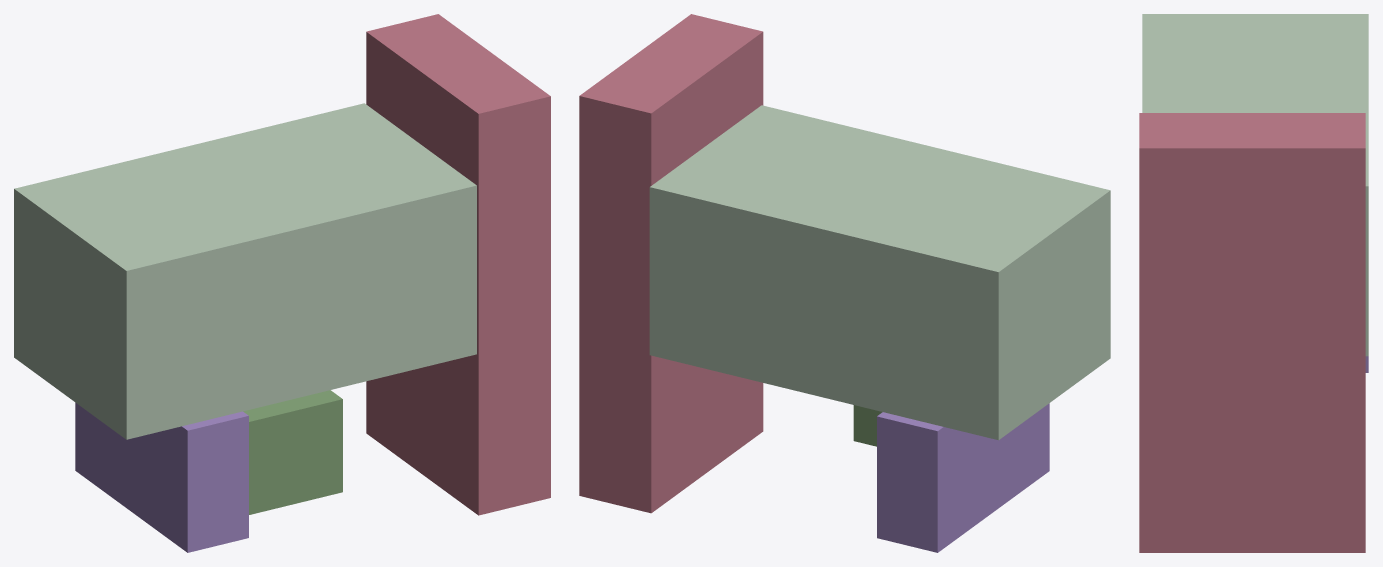
Rendered from 199515_pred.glb.
3 renders of one model, left to right at view 1: azimuth 30°, elevation 25°; view 2: azimuth 150°, elevation 25°; view 3: azimuth 270°, elevation 25°, orthographic.
Parts seen in each view (by area): view 1: world; view 2: world; view 3: world.
Boxes of the visible parts, left/top/right/bottom form: world: left=14, top=14, right=550, bottom=552; world: left=579, top=14, right=1110, bottom=552; world: left=1139, top=14, right=1368, bottom=552.
Size of the model in its own units: 7.6 by 6.9 by 3.55.
